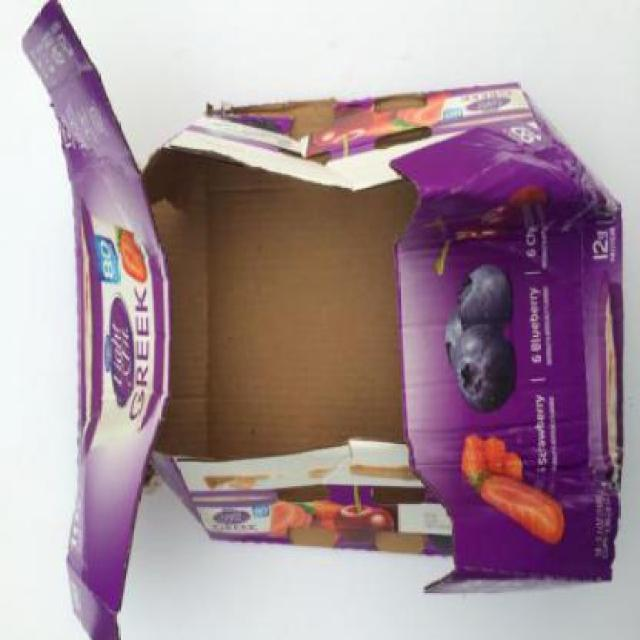box: (22, 0, 628, 640)
